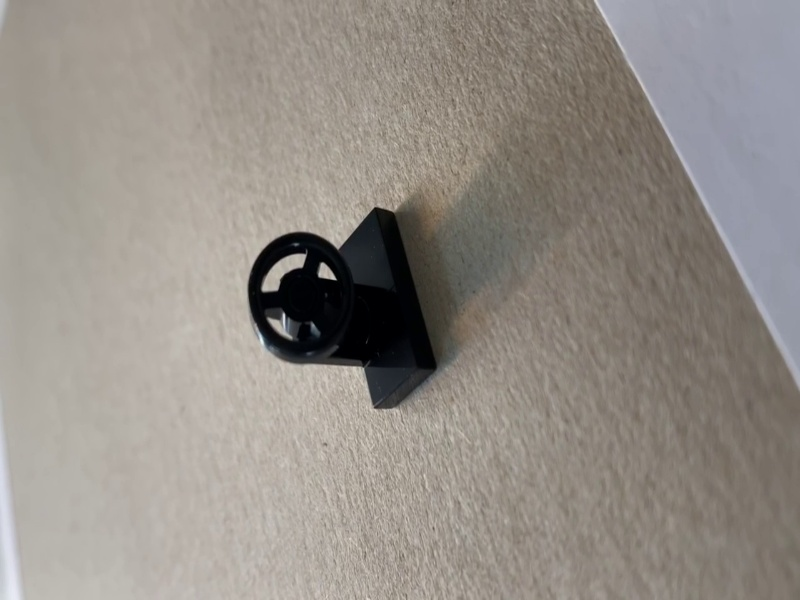steering wheel: (249, 205, 436, 413)
